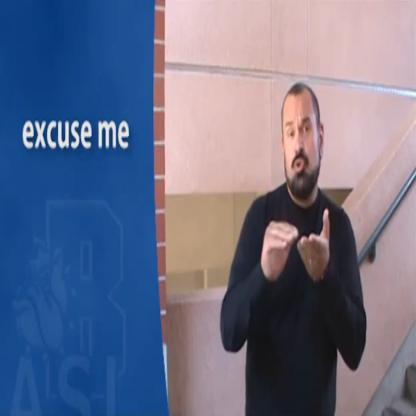ExcuseMe: (251, 200, 332, 294)
